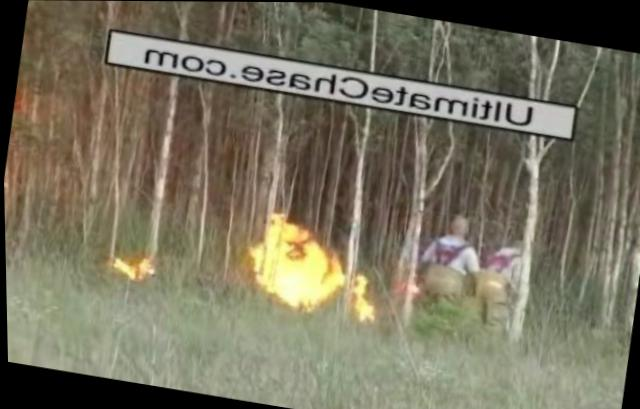fire: (220, 175, 416, 334), (94, 227, 176, 290)
